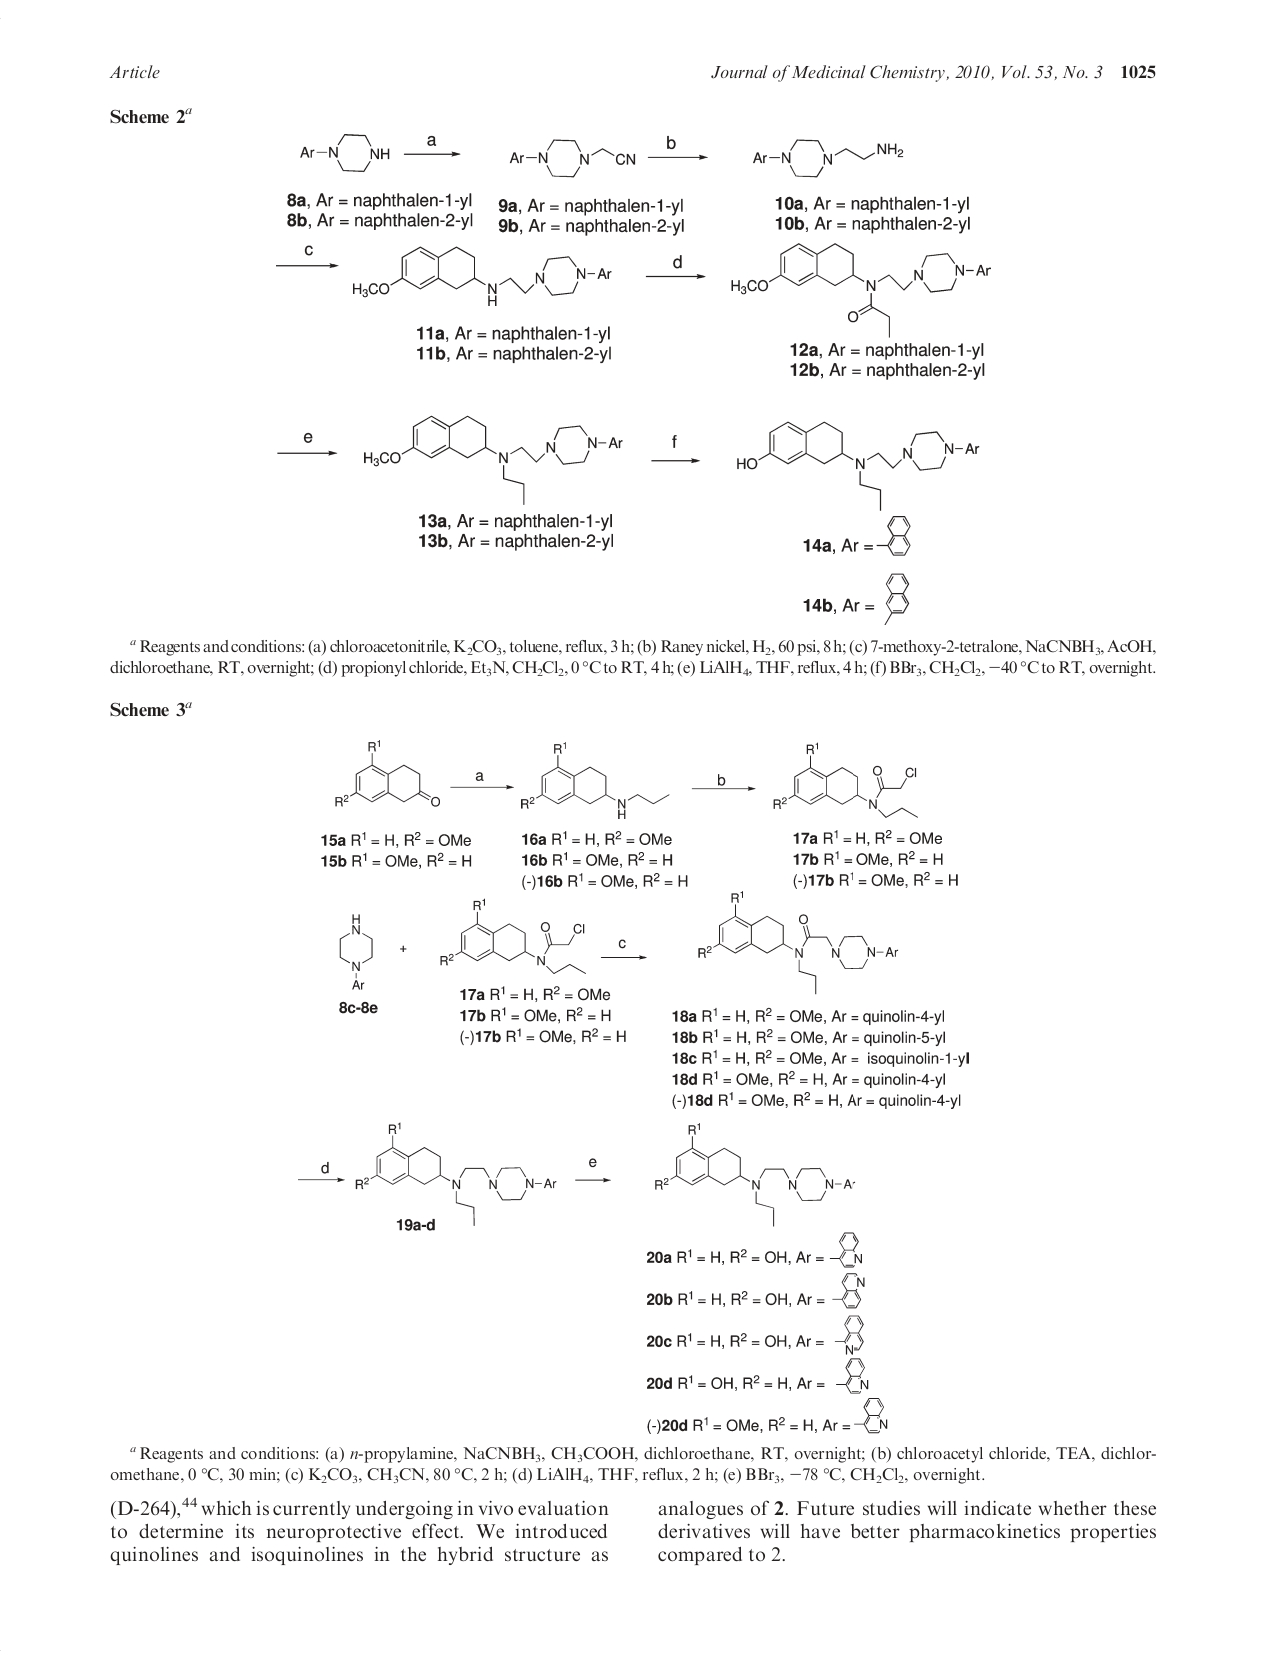exist_molecular: (729, 243, 992, 340), (735, 418, 983, 512), (363, 416, 624, 505), (355, 1120, 559, 1229), (694, 892, 899, 997), (653, 1122, 856, 1227), (350, 245, 613, 309), (439, 896, 590, 977), (519, 739, 672, 819), (773, 742, 920, 821), (332, 737, 442, 811), (751, 138, 907, 180), (511, 138, 637, 180), (301, 132, 391, 174), (336, 915, 375, 992), (876, 515, 914, 559), (882, 571, 910, 628), (828, 1229, 864, 1271), (854, 1396, 890, 1435), (832, 1270, 867, 1310), (834, 1313, 864, 1356), (836, 1356, 870, 1395)
